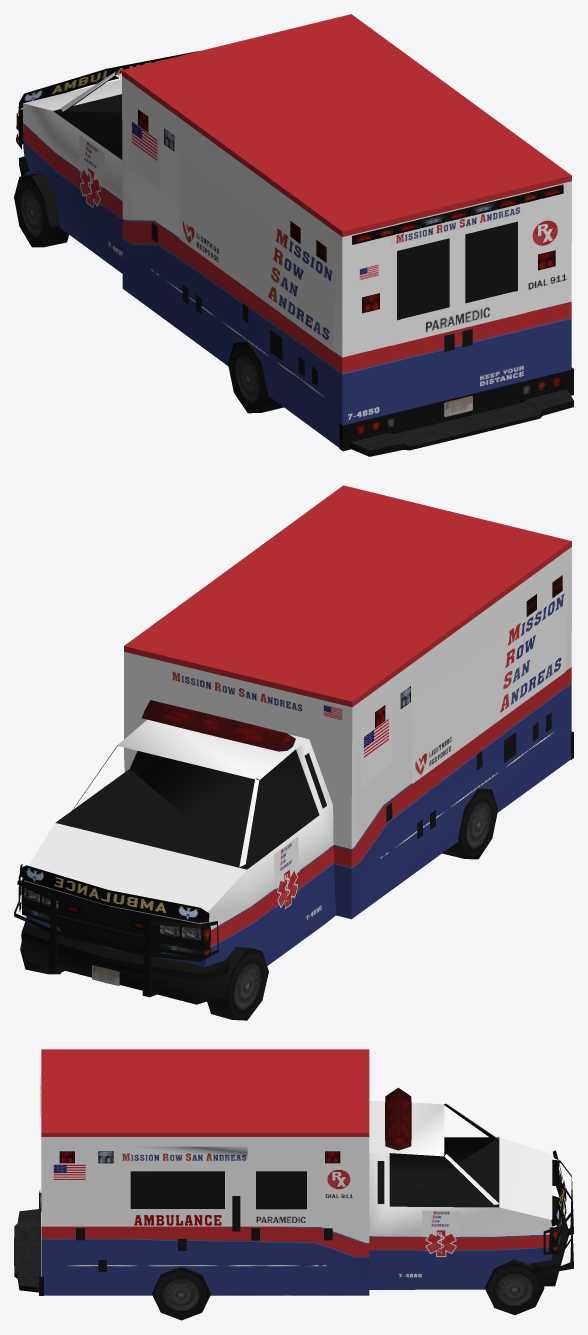
File: ambulance.glb
The picture shows the model from 3 angles, top to bottom: view 1: azimuth 30°, elevation 25°; view 2: azimuth 150°, elevation 25°; view 3: azimuth 270°, elevation 25°; orthographic projection. The views are drawn at different scales.
Visible parts, largest first — view 1: chassis; view 2: chassis; view 3: chassis.
Boxes of the visible parts, x1=… form: chassis: x1=14, y1=14, x2=573, y2=456; chassis: x1=14, y1=485, x2=573, y2=1020; chassis: x1=14, y1=1049, x2=573, y2=1320.
Size of the model in its own units: 2.54 by 2.58 by 7.01.
Materials: 5 (5 with a texture image).
